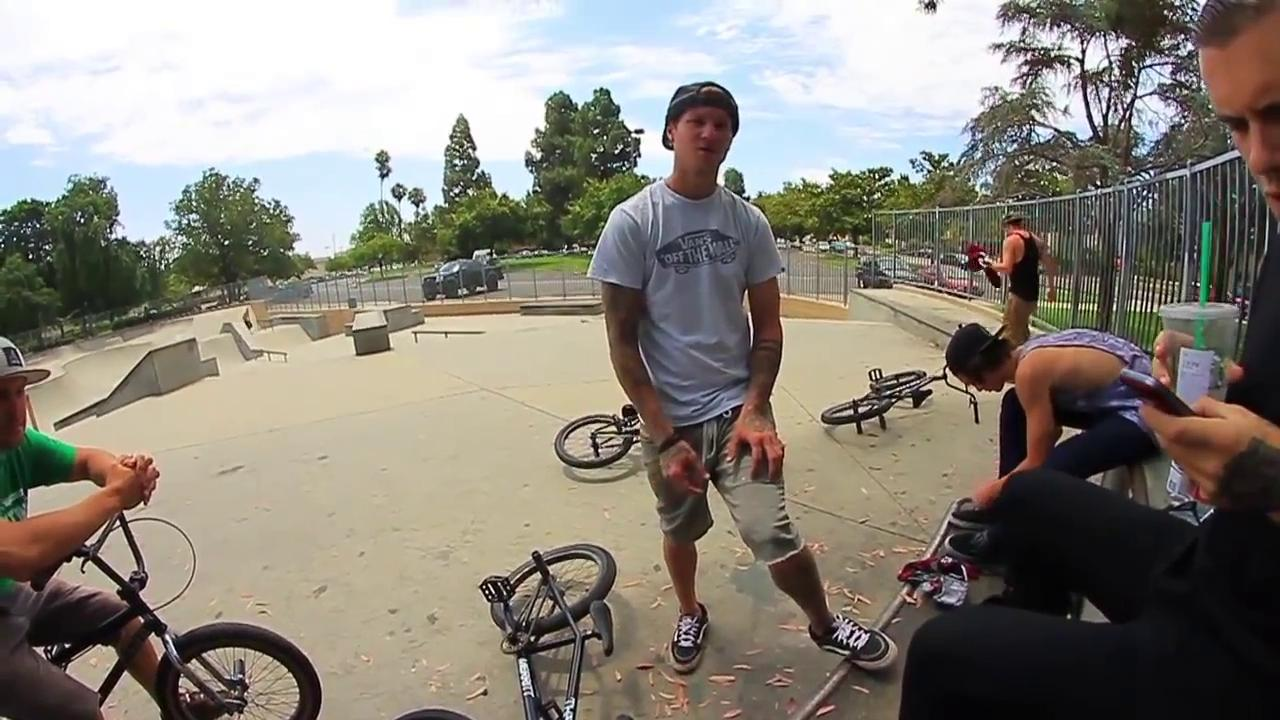victim: (588, 75, 903, 696), (976, 210, 1062, 340)
